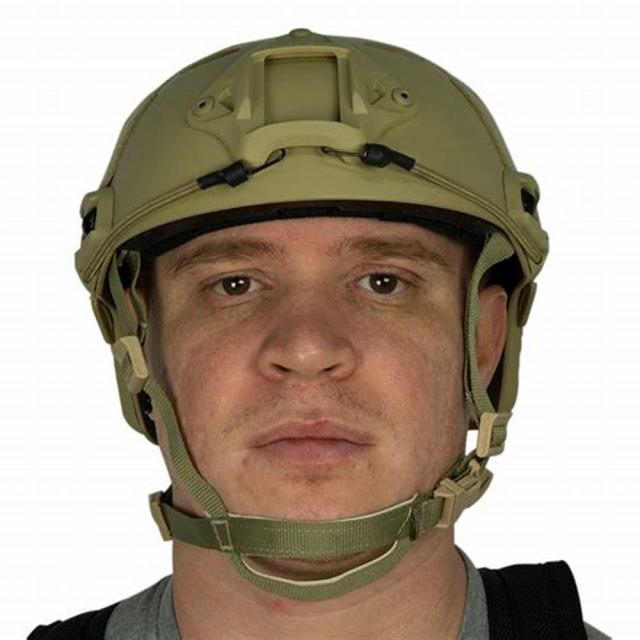illegal_helmet: (59, 19, 559, 611)
